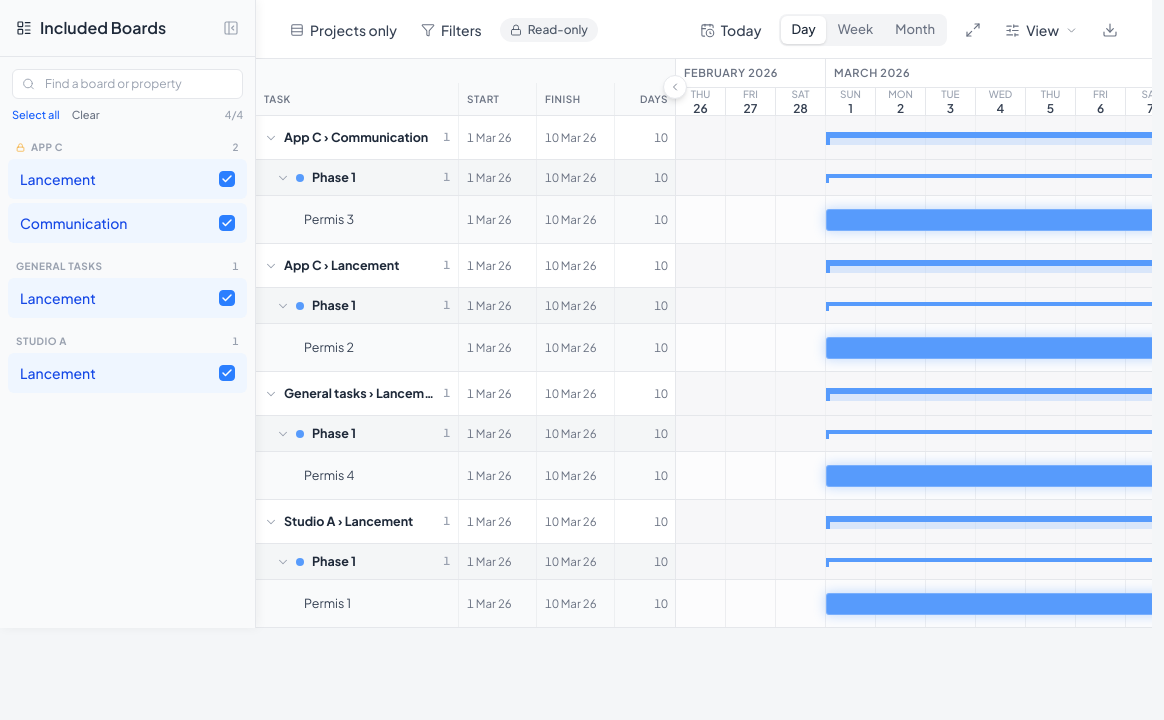
Scenario: WorkspaceGanttView — portfolio filters › narrows the chart to one owner across every property
The width and height of the screenshot is (1164, 720).
Expected: the text "Phase 1" is shown 4 times, [312,168,356,187]; [312,296,356,315]; [312,424,356,443]; [312,552,356,571]
Click the button "Filters" at (451, 30), box [411,14,492,46]
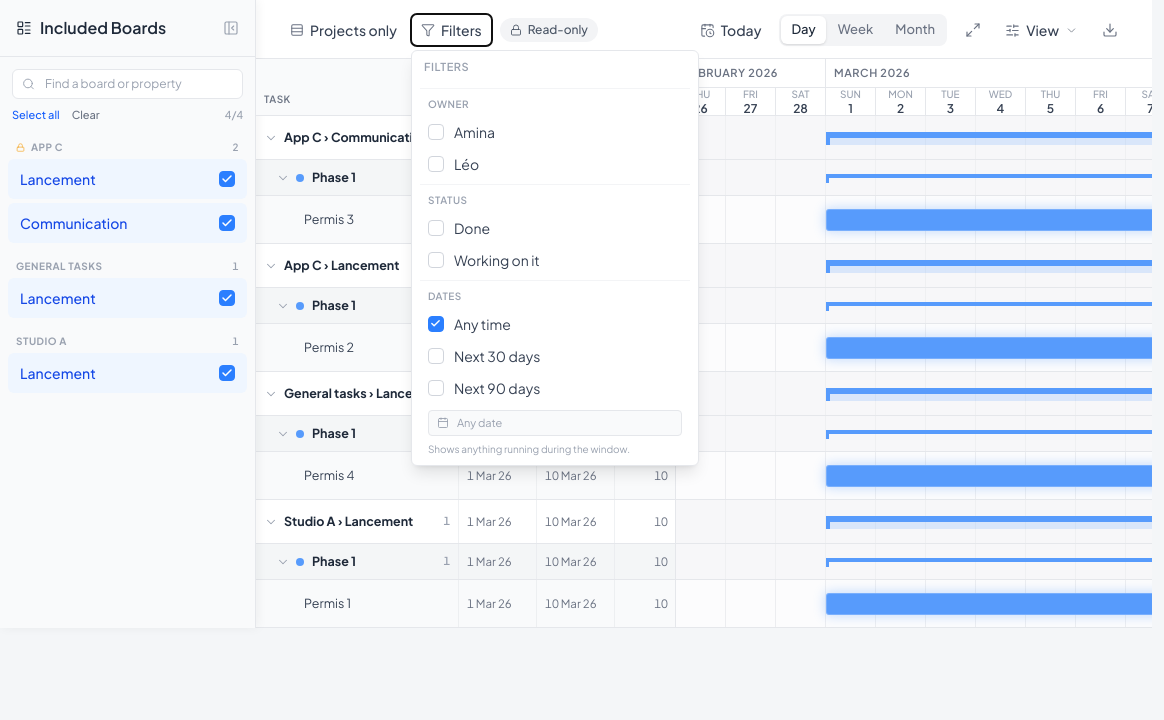
Click the button "Amina" at (474, 132), box [420,116,690,148]
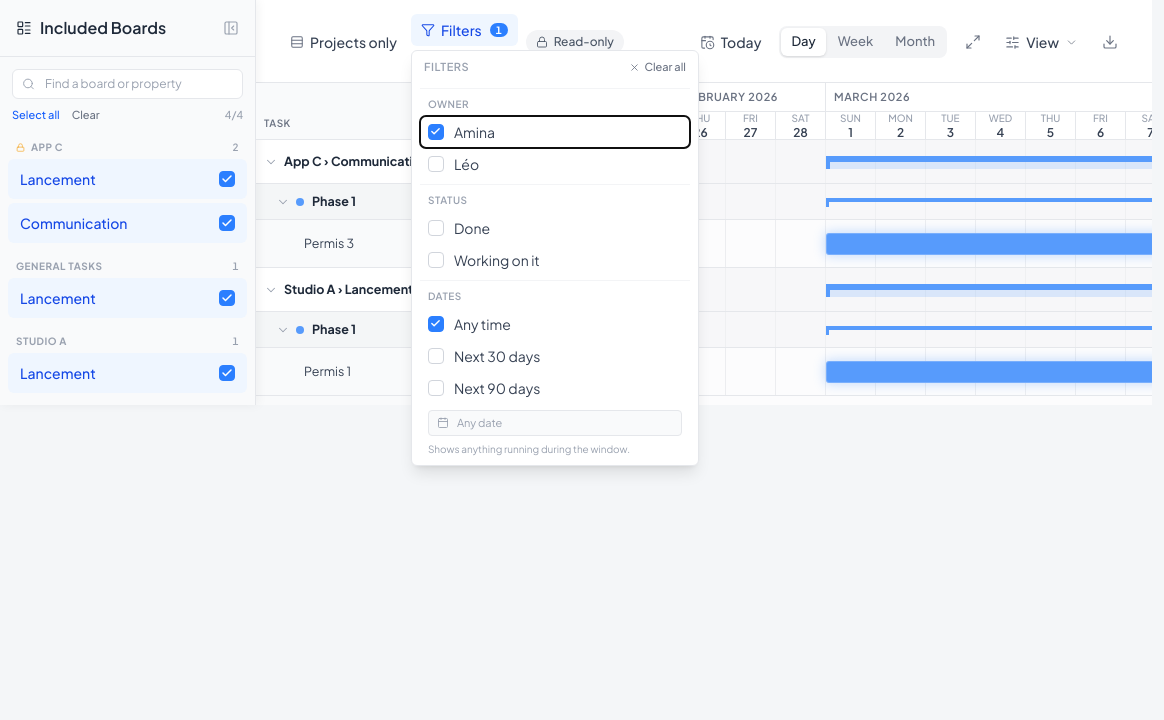
Now the text "Phase 1" is shown 2 times, box [312,192,356,211]; [312,320,356,339]
